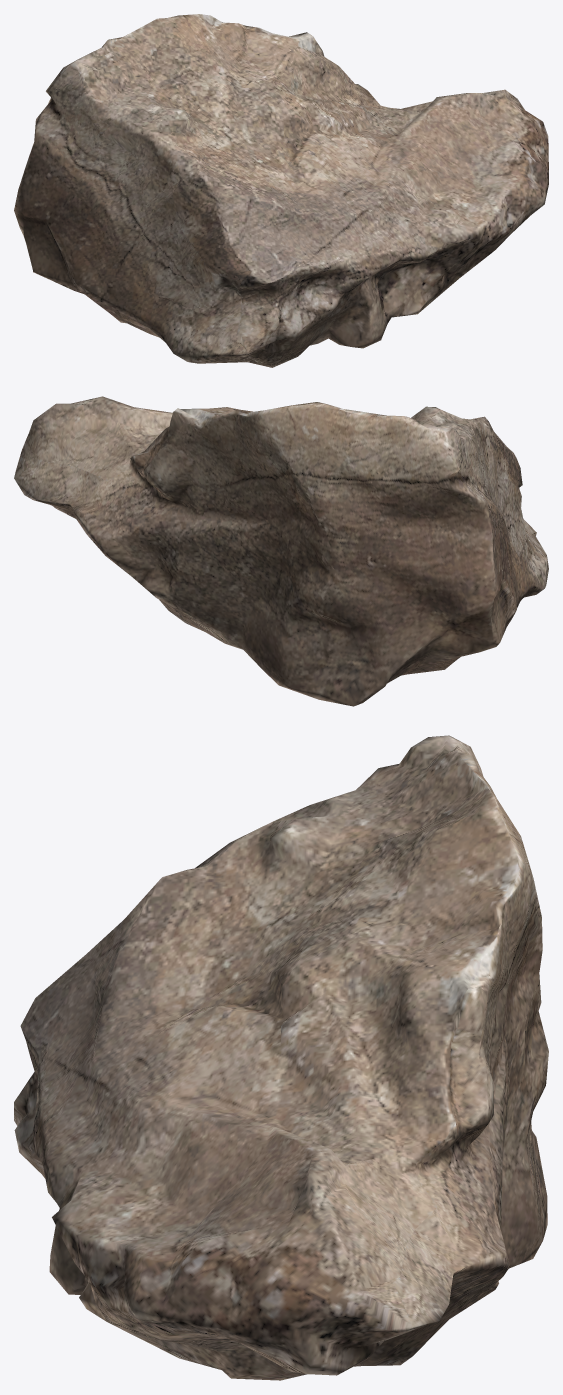
File: Rock3.fbx
3 views of the same model, one above another, from view 1: azimuth 30°, elevation 25°; view 2: azimuth 150°, elevation 25°; view 3: azimuth 270°, elevation 25° (orthographic). The views are drawn at different scales.
Visible parts, largest first — view 1: Lobby_Cliff_Stone04_SM_YCY; view 2: Lobby_Cliff_Stone04_SM_YCY; view 3: Lobby_Cliff_Stone04_SM_YCY.
Part boxes in pixels (left/top/right/bottom): Lobby_Cliff_Stone04_SM_YCY: left=14, top=14, right=548, bottom=367; Lobby_Cliff_Stone04_SM_YCY: left=14, top=396, right=548, bottom=706; Lobby_Cliff_Stone04_SM_YCY: left=14, top=735, right=548, bottom=1380.
Bounding box in the file's own units: 6.28 × 3.57 × 3.65.
1 material, 1 textured.
